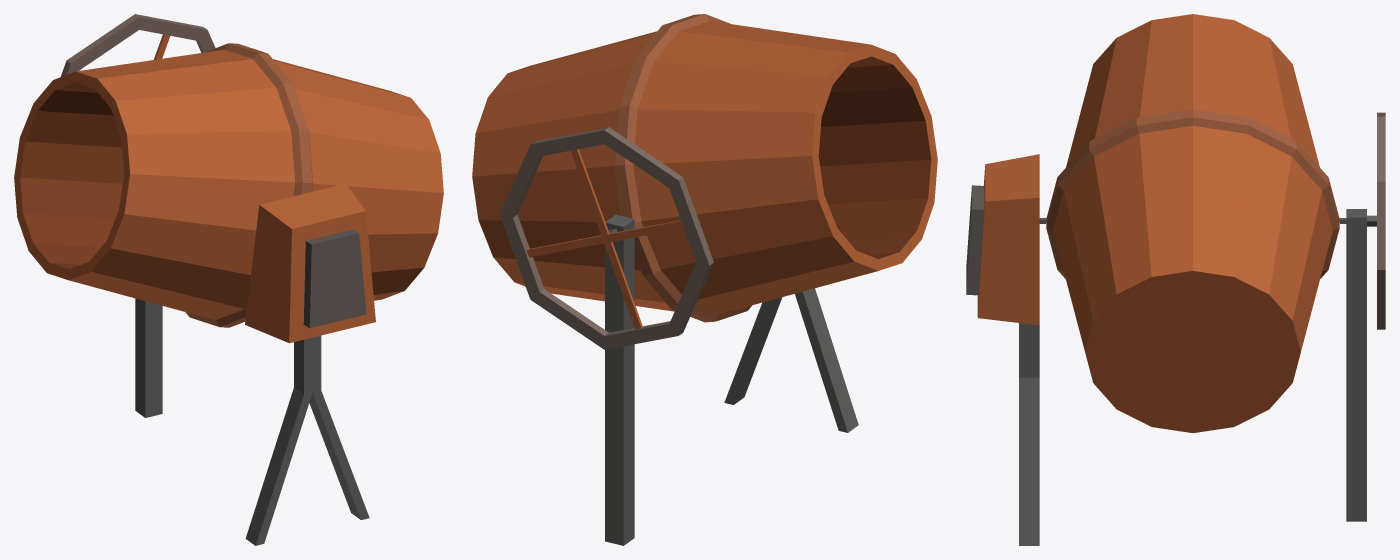
Rendered from cementMixer.fbx.
The picture shows the model from 3 angles, left to right: view 1: azimuth 30°, elevation 25°; view 2: azimuth 150°, elevation 25°; view 3: azimuth 270°, elevation 25°; orthographic projection. The views are drawn at different scales.
Visible parts, largest first — view 1: CementMixer; view 2: CementMixer; view 3: CementMixer.
Boxes of the visible parts, bbox=[...] form: CementMixer: bbox=[14, 14, 443, 545]; CementMixer: bbox=[472, 14, 937, 545]; CementMixer: bbox=[966, 14, 1385, 545].
Size of the model in its own units: 376 by 418 by 363.
